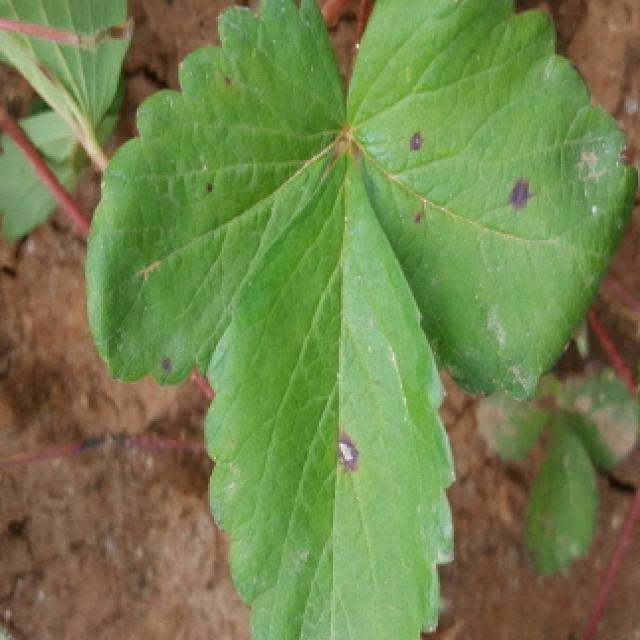Leaf Spot: (204, 133, 459, 640), (347, 0, 639, 406), (84, 0, 345, 387), (475, 372, 567, 462)
